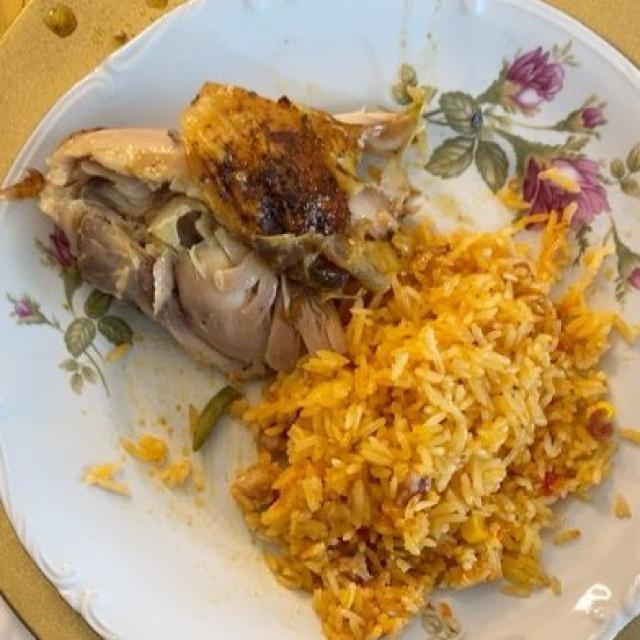chicken: (49, 90, 414, 366)
rice: (223, 198, 636, 621)
